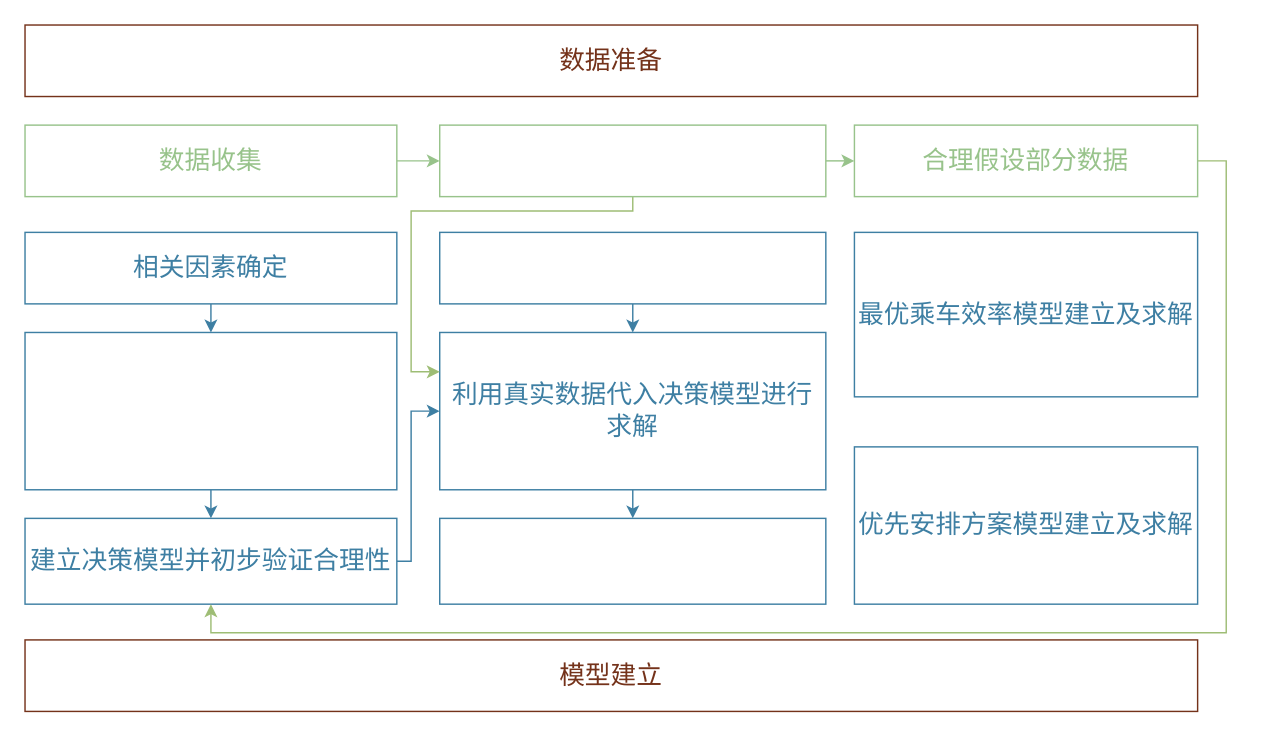
Image size: 1263x736. Some labels were removed from this diagram. Each missing label, with the centre of its shape:
"利用排队论整合相关因素并对因素进行机理分析" belongs at [210,410].
"数据清洗" belongs at [632,160].
"简化模型" belongs at [632,267].
"验证合理性、分析相关因素依赖性" belongs at [632,560].
